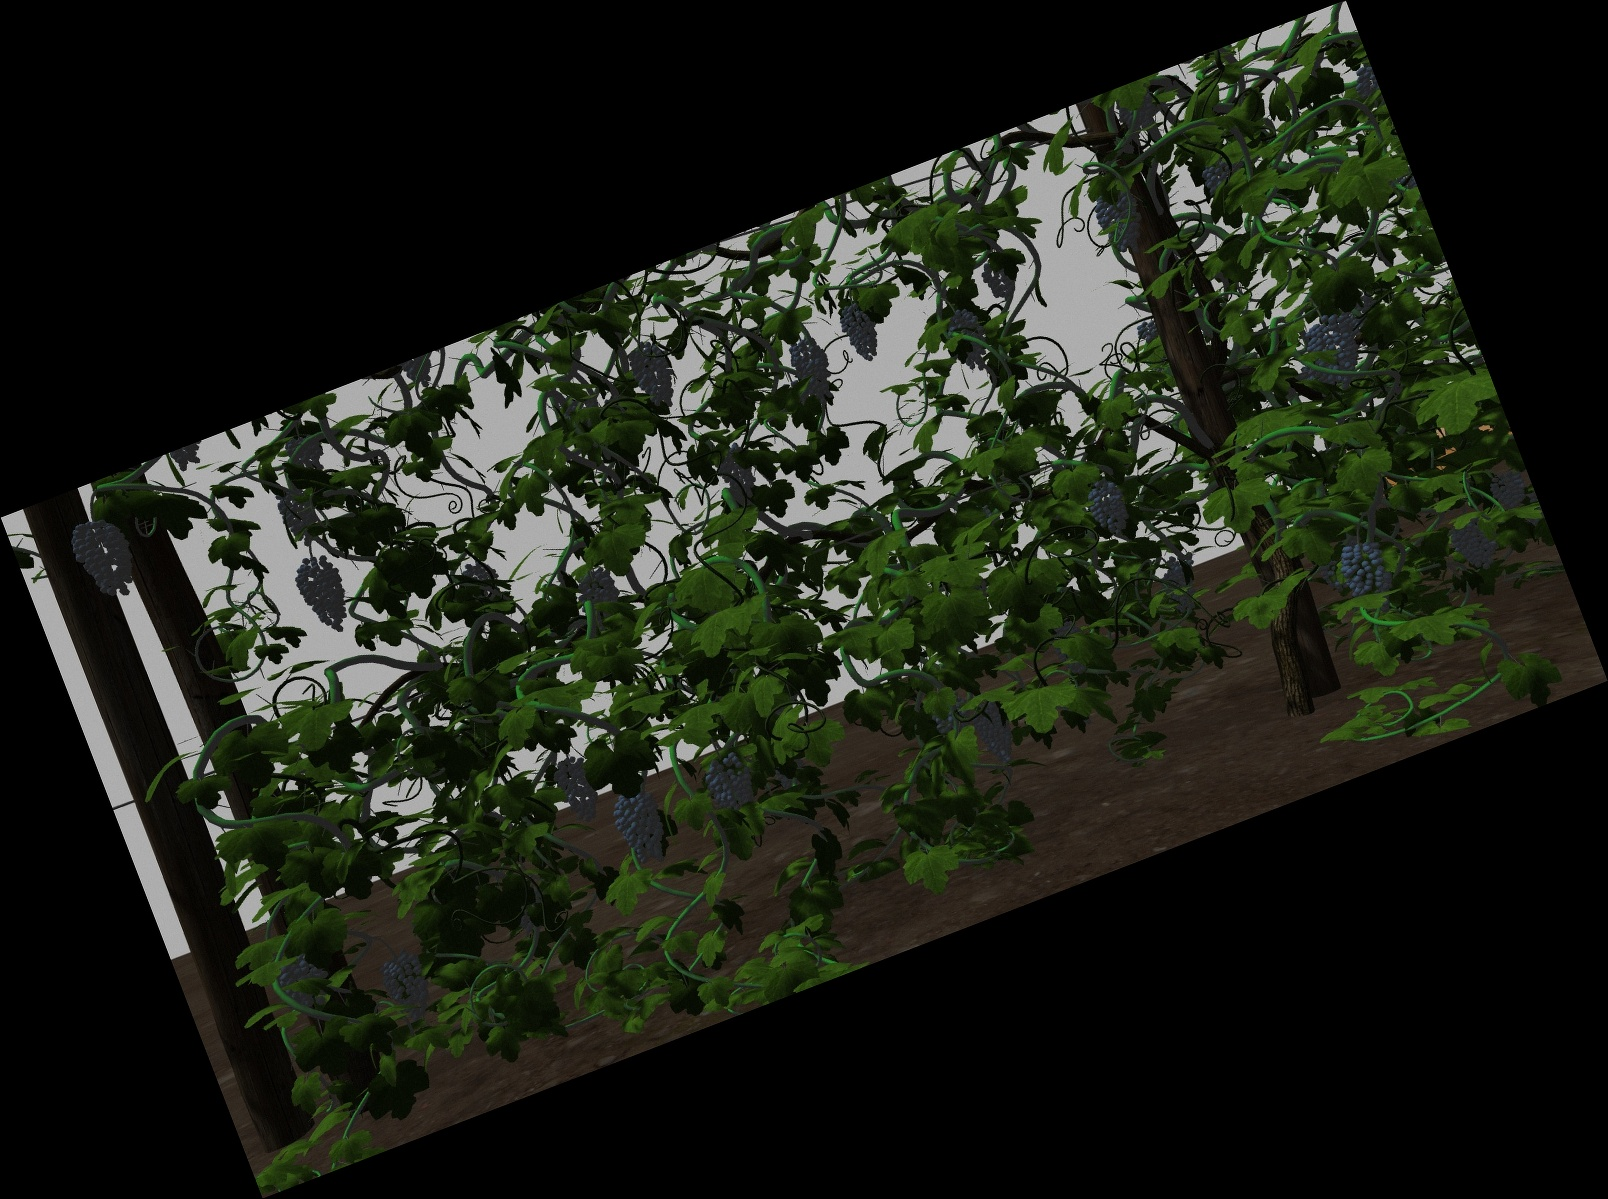grape: (78, 516, 130, 597), (301, 555, 346, 637), (617, 790, 661, 869), (1312, 315, 1360, 383), (554, 759, 596, 826), (706, 752, 750, 814), (387, 955, 426, 1023), (977, 700, 1015, 766), (1452, 520, 1498, 572), (632, 346, 672, 404), (1344, 543, 1388, 594), (1101, 196, 1143, 249), (1088, 482, 1127, 537), (791, 339, 830, 390), (949, 314, 985, 370), (1164, 557, 1200, 611), (842, 304, 875, 361), (1493, 470, 1527, 515), (722, 450, 752, 500), (282, 494, 314, 540), (985, 259, 1012, 302), (579, 571, 614, 603), (1138, 320, 1158, 344)
